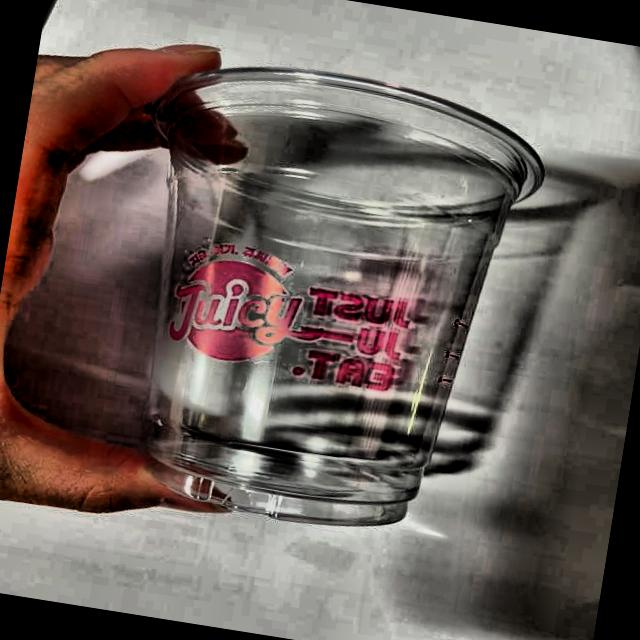plastic cup: (90, 41, 564, 554)
